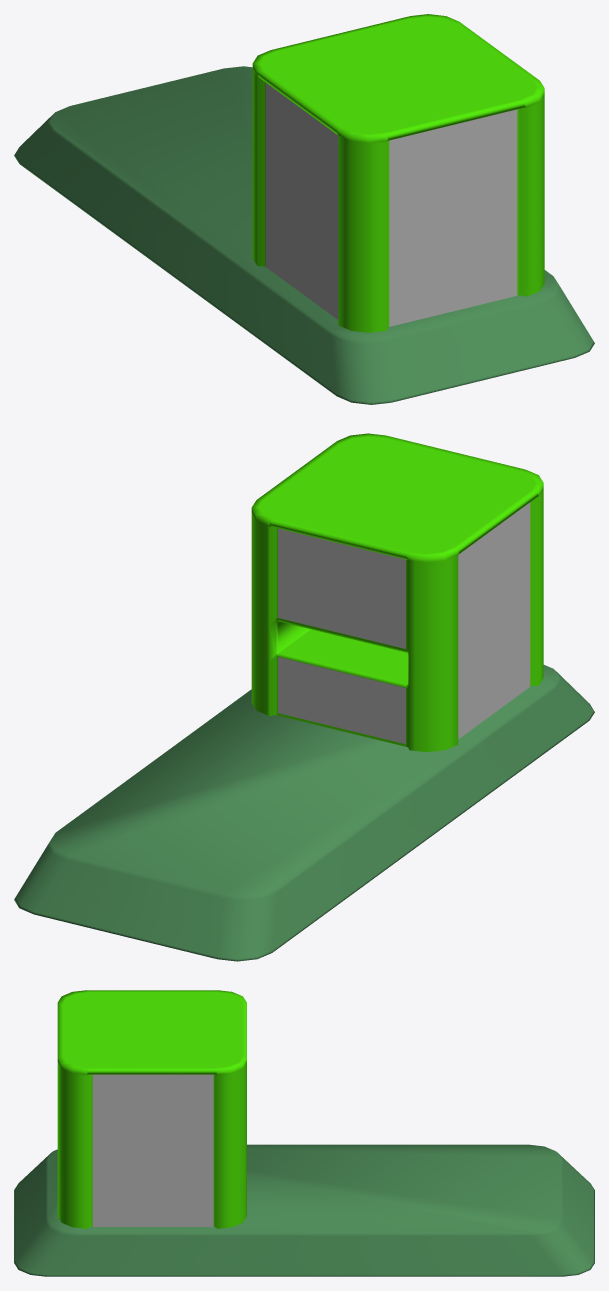
The model's file is dispensador3.fbx.
The picture shows the model from 3 angles, top to bottom: view 1: azimuth 30°, elevation 25°; view 2: azimuth 150°, elevation 25°; view 3: azimuth 270°, elevation 25°; orthographic projection. The views are drawn at different scales.
Visible parts, largest first — view 1: Cube.007; view 2: Cube.007; view 3: Cube.007.
Part boxes in pixels (x1=…): Cube.007: x1=14, y1=14, x2=594, y2=404; Cube.007: x1=14, y1=433, x2=594, y2=961; Cube.007: x1=14, y1=990, x2=594, y2=1276.
Size of the model in its own units: 317 by 291 by 778.
